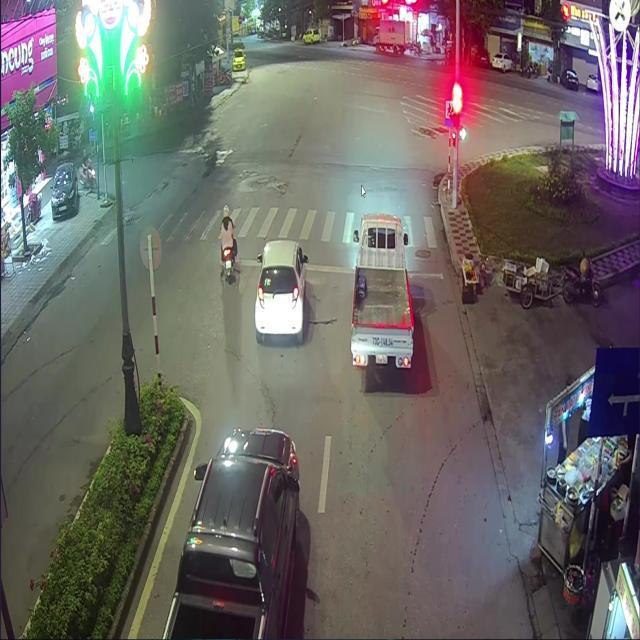car: (164, 427, 300, 638), (350, 213, 413, 368), (253, 237, 306, 345)
motobike: (219, 247, 237, 280)
red_light: (452, 97, 459, 127)
stop_line: (231, 258, 442, 280)
